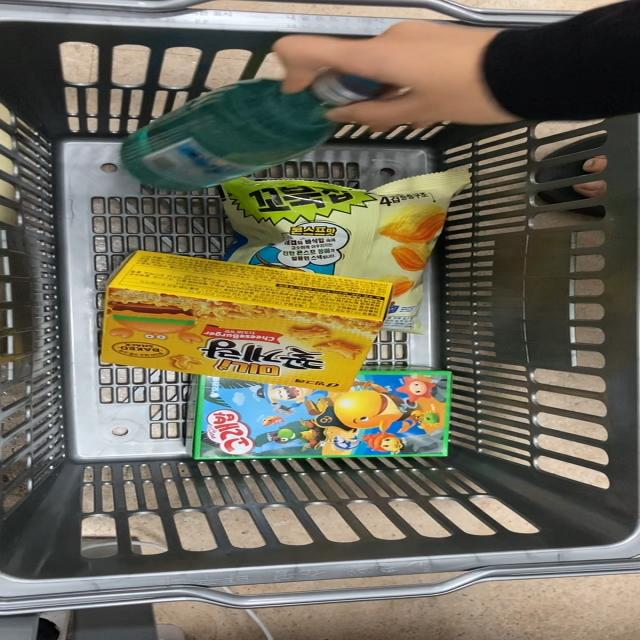ggobukchip: (235, 180, 473, 278)
goraebob: (182, 372, 471, 458)
jinro: (120, 70, 352, 188)
minicrab: (90, 252, 365, 380)
